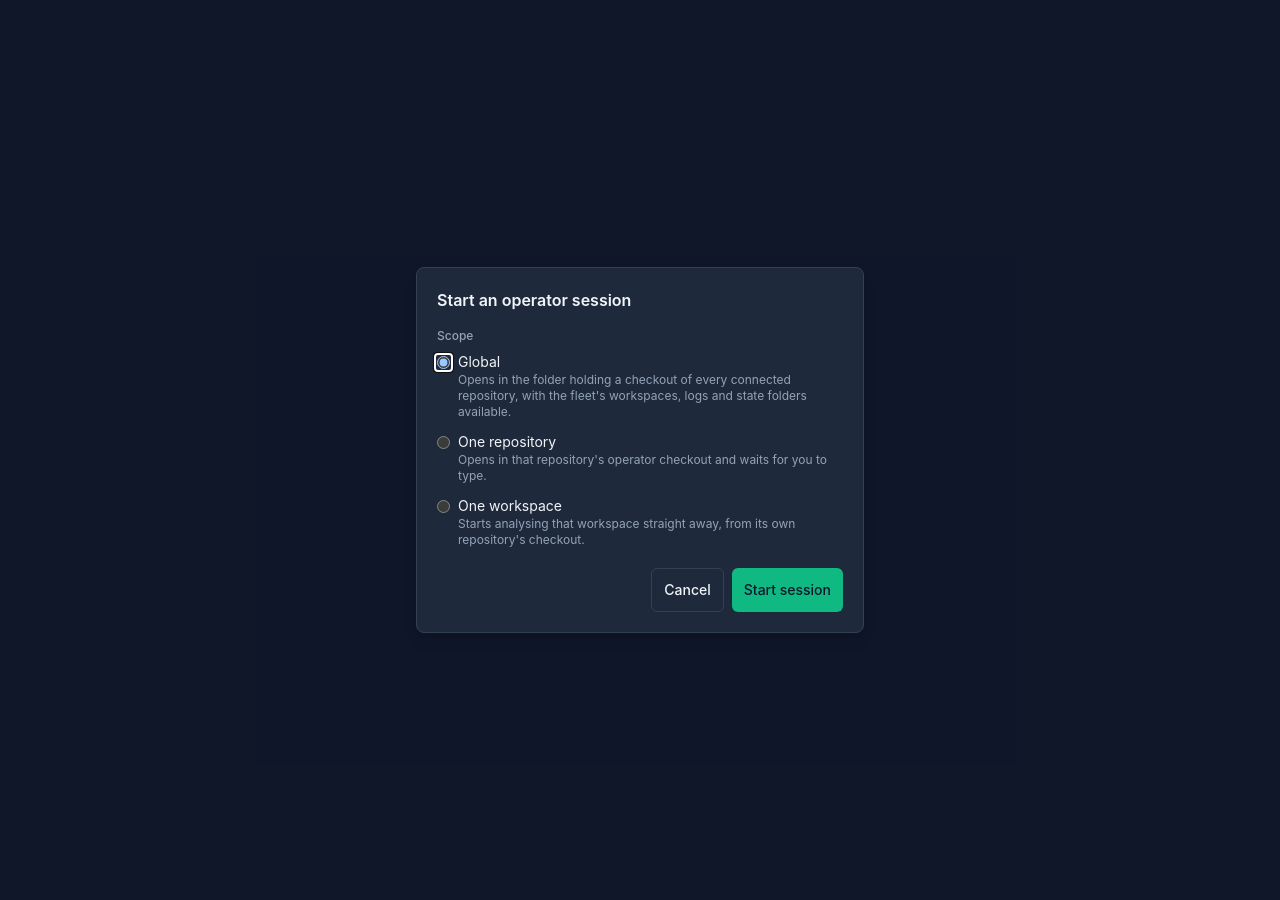
Scenario: ScopePickerDialog — starting a session › shows the failure message when the service cannot be reached
The image size is (1280, 900).
Click the button with test id "operator-start-submit".
click(787, 590)  # box [732,568,843,612]
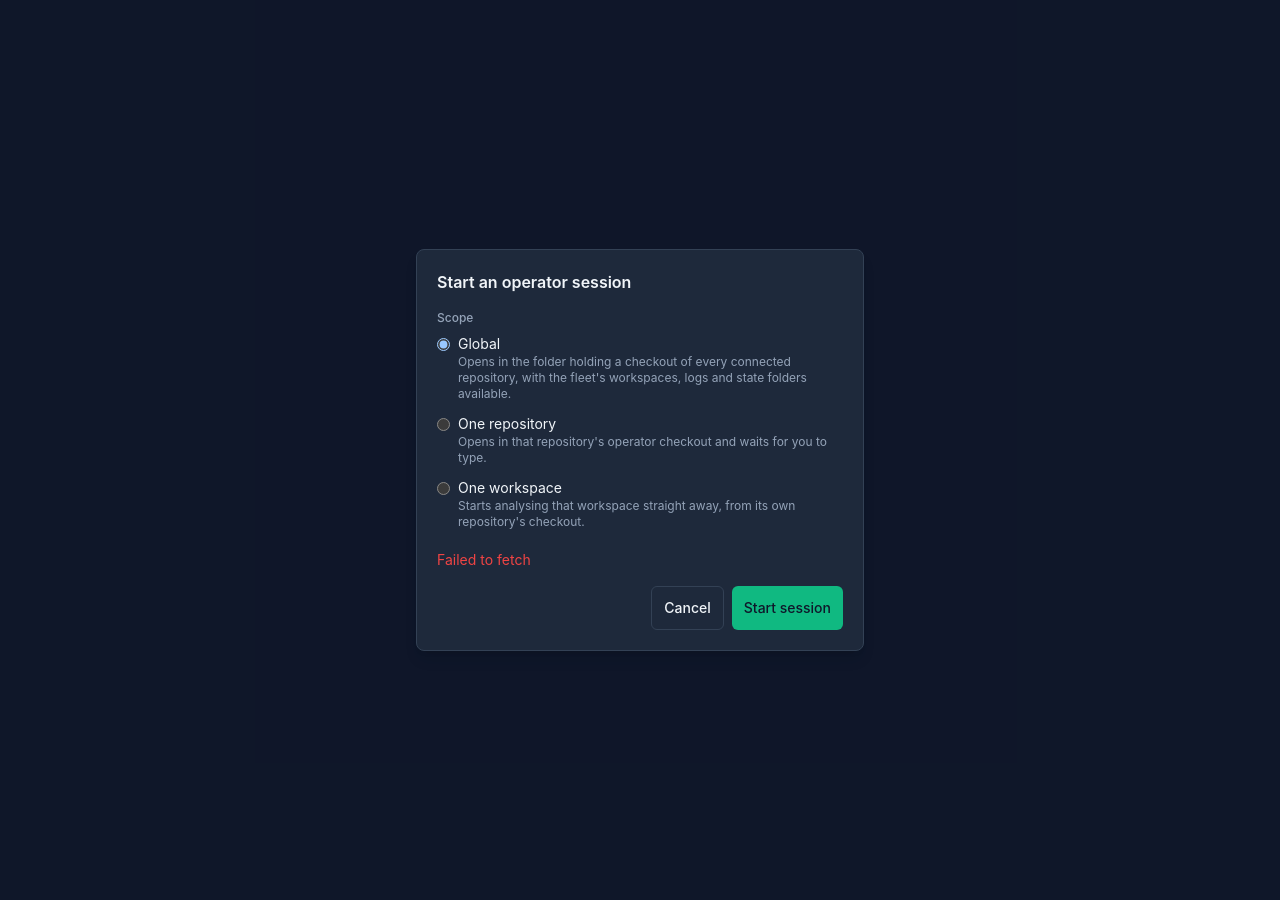
Expected: the message "Failed to fetch" is not empty, [437,551,531,568]
